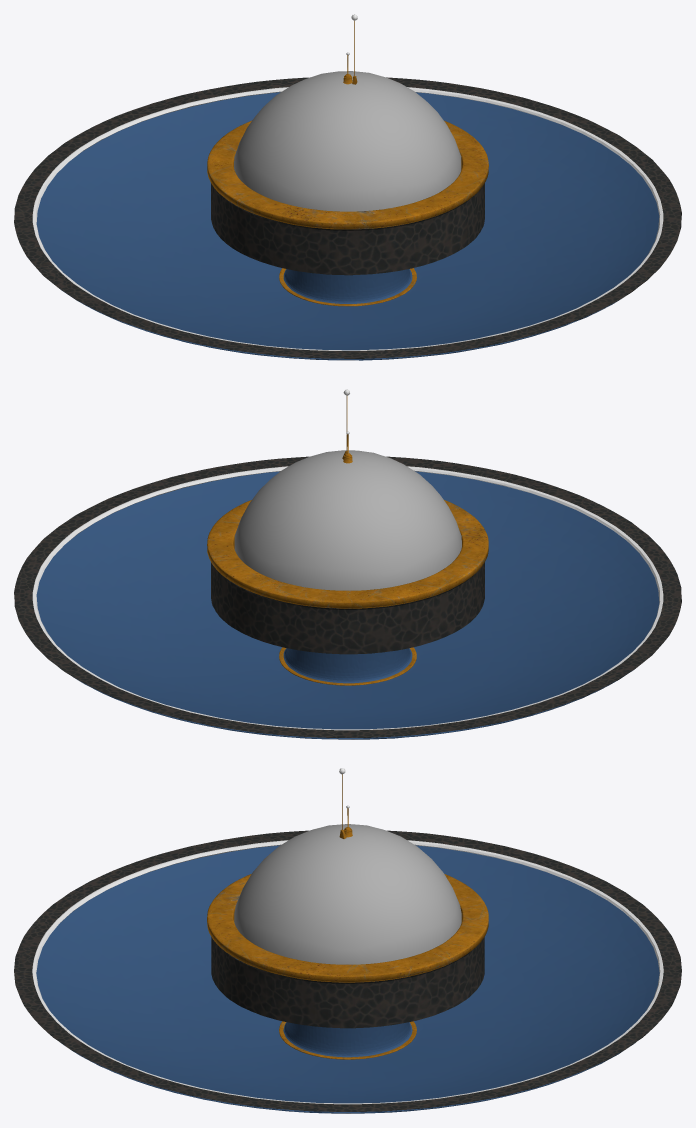
The model's file is ufo-transformed.glb.
3 views of the same model, one above another, from view 1: azimuth 30°, elevation 25°; view 2: azimuth 150°, elevation 25°; view 3: azimuth 270°, elevation 25° (orthographic).
Visible parts, largest first — view 1: Material_013-material, Material_012-material, Material_007-material, Material_001-material, Material_009-material; view 2: Material_013-material, Material_012-material, Material_007-material, Material_001-material, Material_009-material; view 3: Material_013-material, Material_012-material, Material_007-material, Material_001-material, Material_009-material.
Part boxes in pixels (x1=…): Material_013-material: x1=36, y1=92, x2=659, y2=360; Material_012-material: x1=14, y1=77, x2=681, y2=358; Material_007-material: x1=234, y1=71, x2=461, y2=211; Material_001-material: x1=207, y1=20, x2=488, y2=306; Material_009-material: x1=32, y1=14, x2=663, y2=350; Material_013-material: x1=36, y1=471, x2=659, y2=739; Material_012-material: x1=14, y1=456, x2=681, y2=738; Material_007-material: x1=234, y1=450, x2=461, y2=590; Material_001-material: x1=207, y1=396, x2=488, y2=685; Material_009-material: x1=32, y1=389, x2=663, y2=730; Material_013-material: x1=36, y1=845, x2=659, y2=1113; Material_012-material: x1=14, y1=830, x2=681, y2=1111; Material_007-material: x1=234, y1=824, x2=461, y2=964; Material_001-material: x1=207, y1=774, x2=488, y2=1059; Material_009-material: x1=32, y1=768, x2=663, y2=1104.
Bounding box in the file's own units: 2.57 × 1.15 × 2.57.
Materials: 6 (2 with a texture image).
